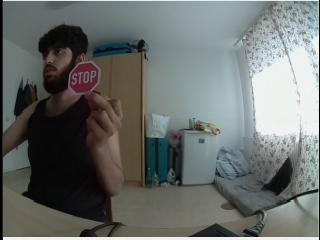stop: (68, 63, 99, 94)
